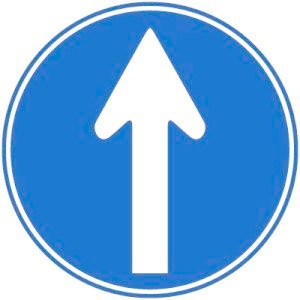Direction_sign: (2, 5, 298, 297)
